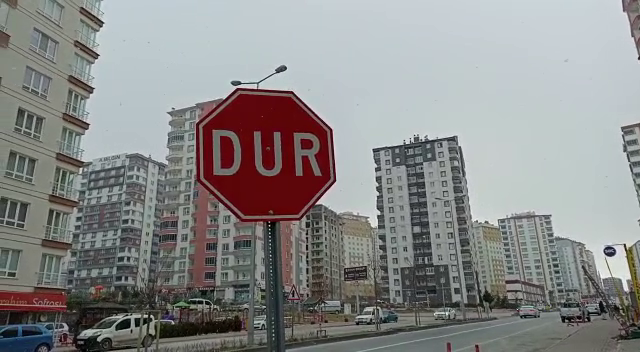stop: (192, 86, 340, 225)
